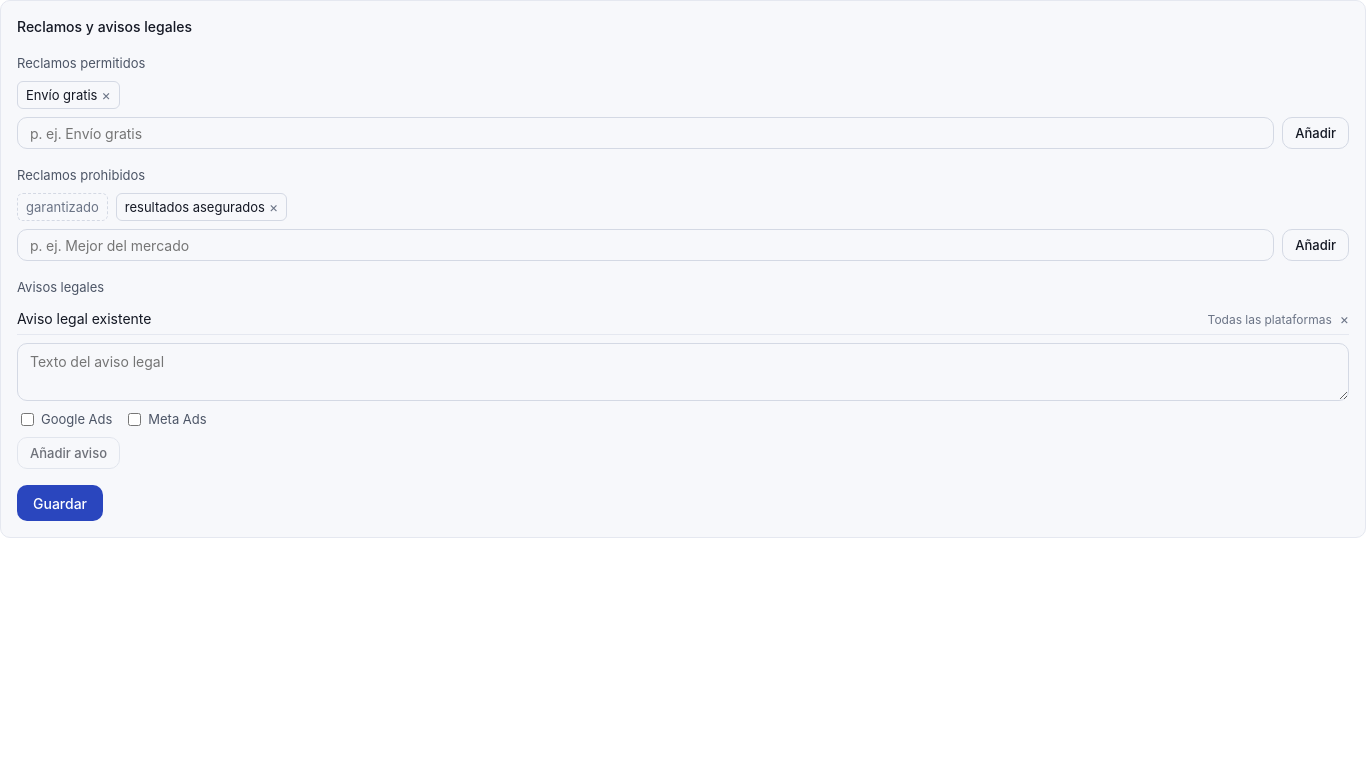
BrandClaimsEditor › un conflicto devuelto por el servidor se muestra en línea sin romper el formulario
Step 1. Click the button "Guardar" → (60, 503), box [17,485,103,521]
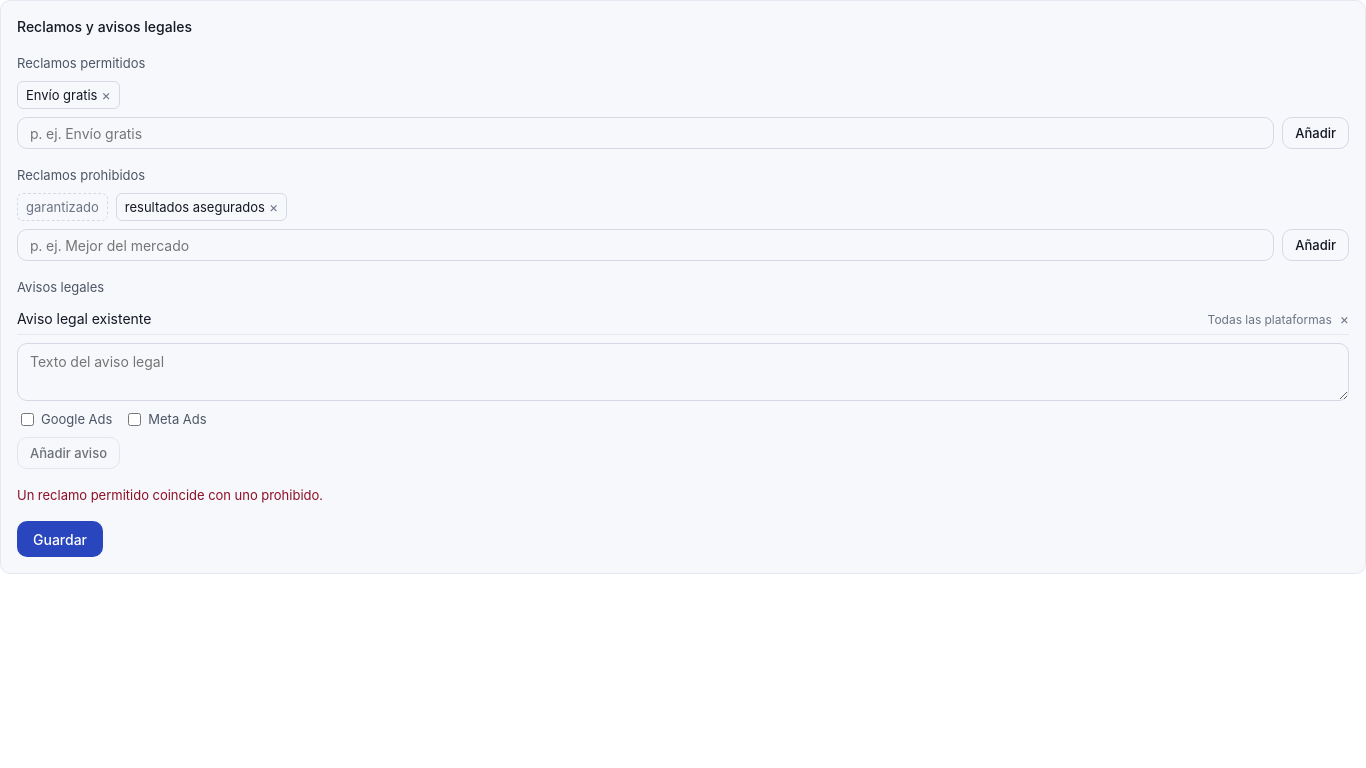
Now the text "Un reclamo permitido coincide con uno prohibido." is shown, box [17,487,323,503]
